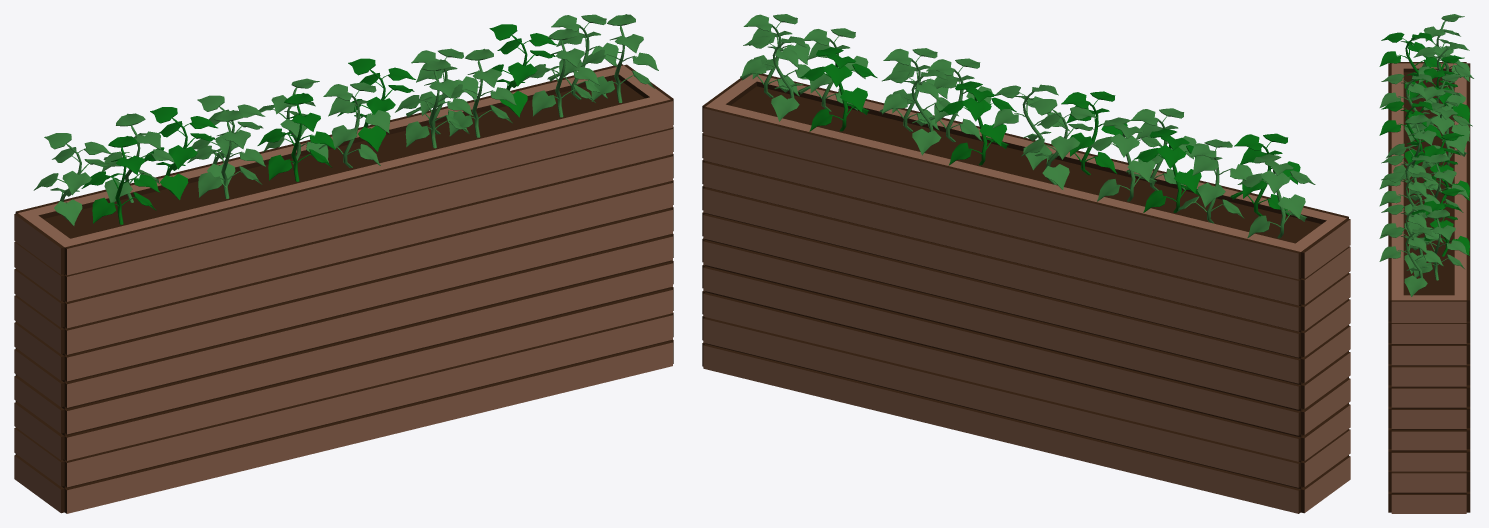
File: LowPlantDivider.fbx
The picture shows the model from 3 angles, left to right: view 1: azimuth 30°, elevation 25°; view 2: azimuth 150°, elevation 25°; view 3: azimuth 270°, elevation 25°; orthographic projection. The views are drawn at different scales.
Visible parts, largest first — view 1: group78_pasted__group75_pasted__pasted__group71_pasted__past; view 2: group78_pasted__group75_pasted__pasted__group71_pasted__past; view 3: group78_pasted__group75_pasted__pasted__group71_pasted__past.
Boxes of the visible parts, bbox=[...] form: group78_pasted__group75_pasted__pasted__group71_pasted__past: bbox=[14, 14, 673, 513]; group78_pasted__group75_pasted__pasted__group71_pasted__past: bbox=[702, 14, 1350, 513]; group78_pasted__group75_pasted__pasted__group71_pasted__past: bbox=[1379, 14, 1473, 513].
Bounding box in the file's own units: 99.37 × 52.72 × 16.67.
